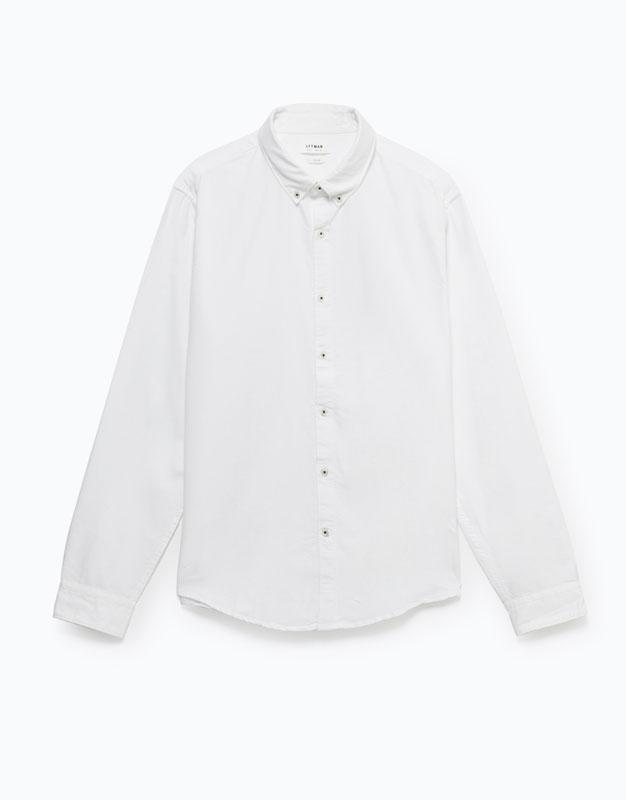teeshirt: (40, 102, 592, 668)
